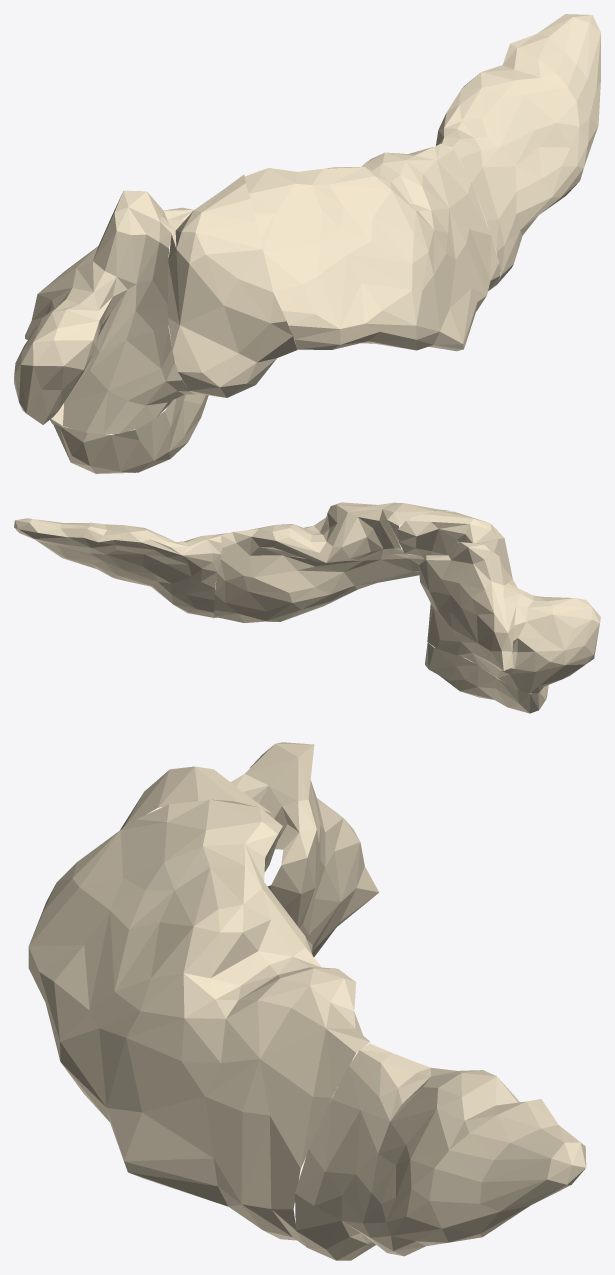
The model's file is VH_F_Pancreas_0.1.glb.
3 renders of one model, top to bottom at view 1: azimuth 30°, elevation 25°; view 2: azimuth 150°, elevation 25°; view 3: azimuth 270°, elevation 25°, orthographic. The views are drawn at different scales.
Visible parts, largest first — view 1: VH_F_body_of_pancreas, VH_F_head_of_pancreas, VH_F_tail_of_pancreas, VH_F_neck_of_pancreas, VH_F_uncinate_process; view 2: VH_F_body_of_pancreas, VH_F_head_of_pancreas, VH_F_tail_of_pancreas, VH_F_neck_of_pancreas, VH_F_uncinate_process; view 3: VH_F_body_of_pancreas, VH_F_tail_of_pancreas, VH_F_head_of_pancreas, VH_F_neck_of_pancreas.
Part boxes in pixels (left/top/right/bottom): VH_F_body_of_pancreas: left=244, top=143, right=500, bottom=351; VH_F_head_of_pancreas: left=14, top=190, right=194, bottom=434; VH_F_tail_of_pancreas: left=436, top=14, right=600, bottom=283; VH_F_neck_of_pancreas: left=167, top=174, right=297, bottom=397; VH_F_uncinate_process: left=53, top=382, right=208, bottom=473; VH_F_body_of_pancreas: left=213, top=502, right=448, bottom=622; VH_F_head_of_pancreas: left=419, top=542, right=600, bottom=693; VH_F_tail_of_pancreas: left=14, top=518, right=221, bottom=617; VH_F_neck_of_pancreas: left=397, top=510, right=517, bottom=587; VH_F_uncinate_process: left=425, top=642, right=548, bottom=713; VH_F_body_of_pancreas: left=28, top=799, right=369, bottom=1246; VH_F_tail_of_pancreas: left=295, top=1043, right=586, bottom=1260; VH_F_head_of_pancreas: left=186, top=742, right=378, bottom=956; VH_F_neck_of_pancreas: left=120, top=766, right=271, bottom=829.
Bounding box in the file's own units: 0.1728 × 0.0581 × 0.0847.
